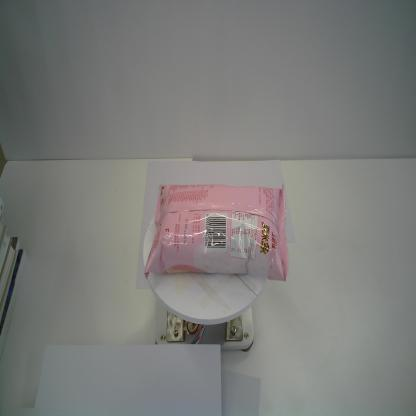Puffed Food: (144, 184, 290, 283)
